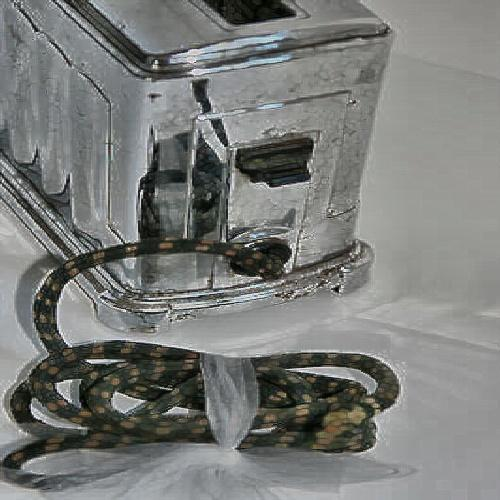toaster: (18, 16, 383, 314)
